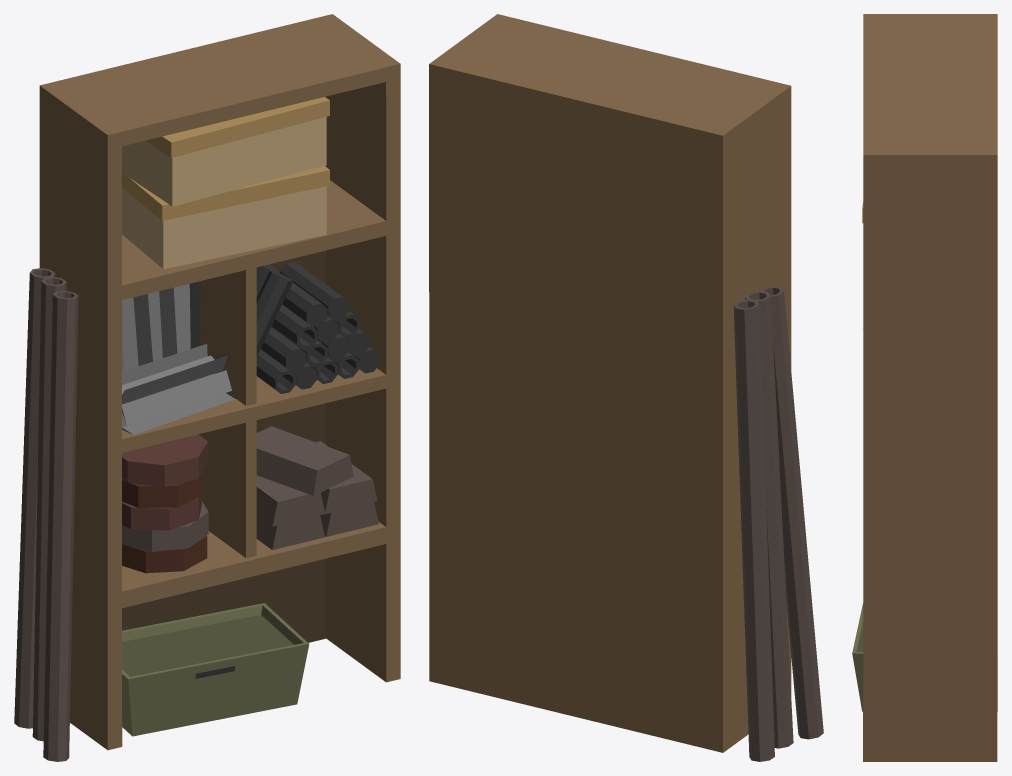
File: FactoryStorageShelves.glb
The picture shows the model from 3 angles, left to right: view 1: azimuth 30°, elevation 25°; view 2: azimuth 150°, elevation 25°; view 3: azimuth 270°, elevation 25°; orthographic projection.
Visible parts, largest first — view 1: factoryBoxShelves; view 2: factoryBoxShelves; view 3: factoryBoxShelves.
Boxes of the visible parts, left/top/right/bottom form: factoryBoxShelves: left=14, top=14, right=400, bottom=761; factoryBoxShelves: left=429, top=14, right=823, bottom=761; factoryBoxShelves: left=852, top=14, right=997, bottom=761.
Bounding box in the file's own units: 1.39 × 2.45 × 0.5233.
1 material, 1 textured.
